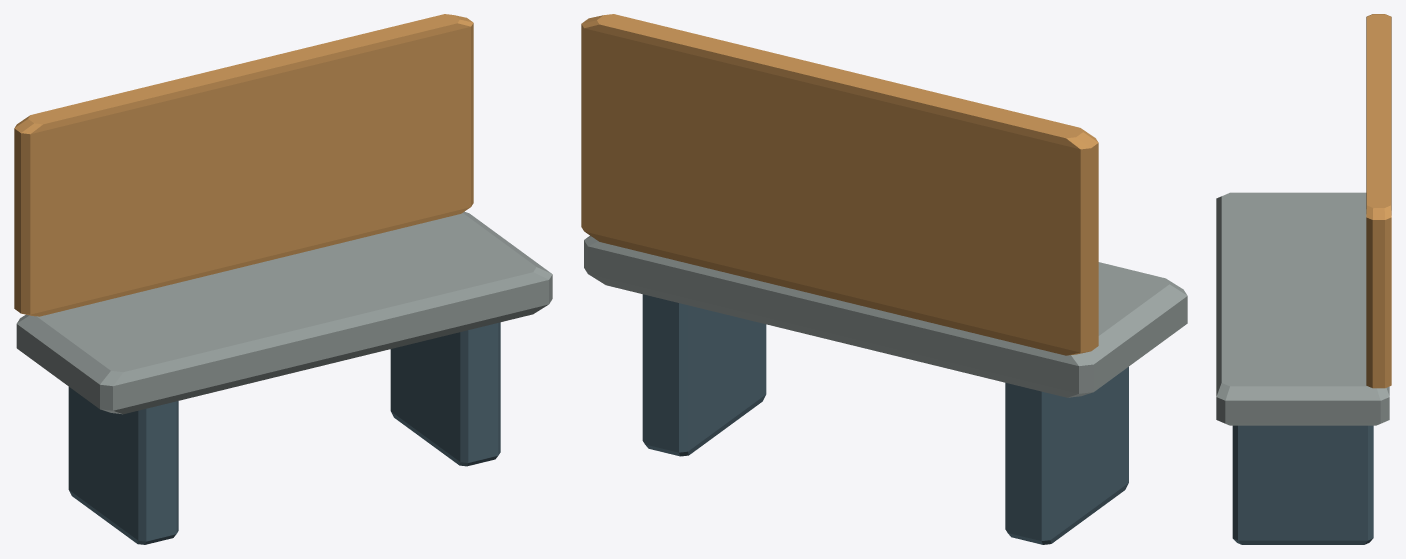
Rendered from SM_COM_PROP_002_Bench.glb.
The picture shows the model from 3 angles, left to right: view 1: azimuth 30°, elevation 25°; view 2: azimuth 150°, elevation 25°; view 3: azimuth 270°, elevation 25°; orthographic projection. The views are drawn at different scales.
Visible parts, largest first — view 1: SM_COM_PROP_002_Bench; view 2: SM_COM_PROP_002_Bench; view 3: SM_COM_PROP_002_Bench.
Boxes of the visible parts, x1,y1,x2,y2 form: SM_COM_PROP_002_Bench: (14, 14, 552, 544); SM_COM_PROP_002_Bench: (581, 14, 1187, 544); SM_COM_PROP_002_Bench: (1216, 14, 1391, 544).
Size of the model in its own units: 1.35 by 1.08 by 0.485.
